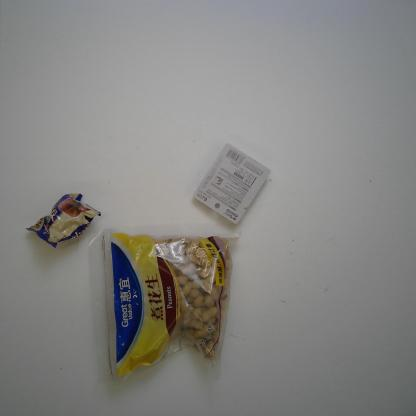Dessert: (24, 192, 102, 249)
Dried Food: (84, 223, 244, 386)
Stationery: (192, 141, 272, 226)
